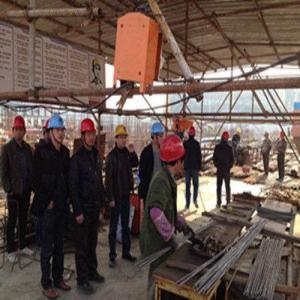blue: (49, 116, 66, 144), (152, 124, 165, 147)
red: (161, 135, 188, 178), (11, 116, 28, 144), (81, 119, 97, 148), (190, 126, 197, 139), (222, 132, 230, 143)
yellow: (115, 125, 130, 151)
